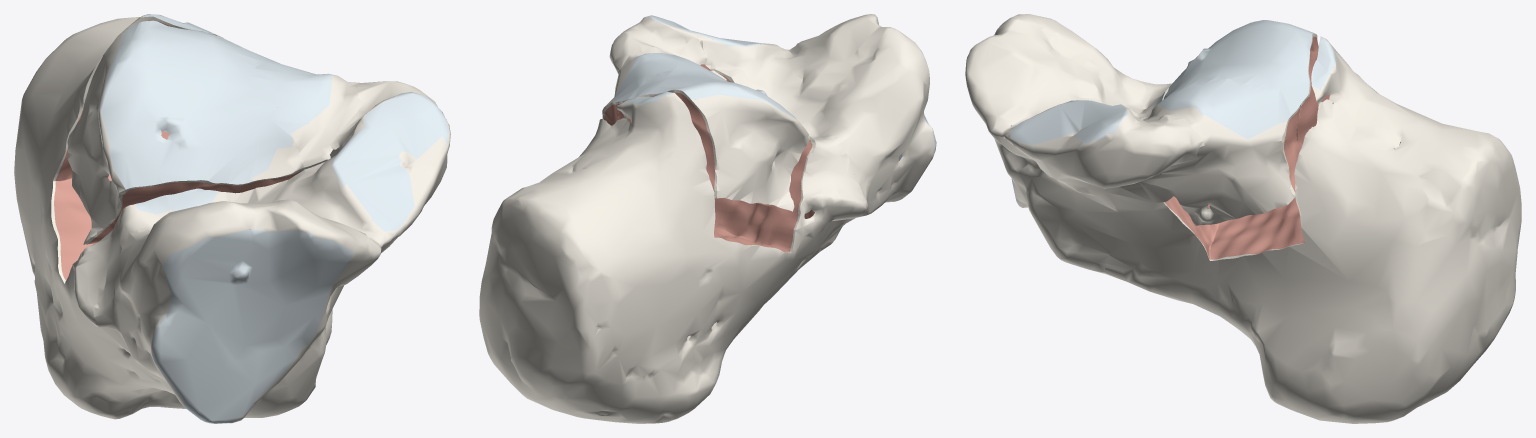
The model's file is S-IIIBC_elderly.glb.
3 renders of one model, left to right at view 1: azimuth 30°, elevation 25°; view 2: azimuth 150°, elevation 25°; view 3: azimuth 270°, elevation 25°, orthographic. The views are drawn at different scales.
Visible parts, largest first — view 1: calcaneus: sustentacular fragment, calcaneus: lateral joint fragment, calcaneus: tuberosity, calcaneus: central joint fragment (depressed); view 2: calcaneus: tuberosity, calcaneus: sustentacular fragment, calcaneus: lateral joint fragment, calcaneus: central joint fragment (depressed); view 3: calcaneus: tuberosity, calcaneus: sustentacular fragment, calcaneus: central joint fragment (depressed), calcaneus: lateral joint fragment.
Boxes of the visible parts, x1,y1,x2,y2 form: calcaneus: sustentacular fragment: (94,81,450,423); calcaneus: lateral joint fragment: (67,20,304,244); calcaneus: tuberosity: (14,14,332,419); calcaneus: central joint fragment (depressed): (239,46,362,169); calcaneus: tuberosity: (479,92,867,423); calcaneus: sustentacular fragment: (609,14,936,255); calcaneus: lateral joint fragment: (618,65,809,211); calcaneus: central joint fragment (depressed): (602,34,725,125); calcaneus: tuberosity: (1103,36,1521,423); calcaneus: sustentacular fragment: (965,14,1203,273); calcaneus: central joint fragment (depressed): (1145,79,1301,225); calcaneus: lateral joint fragment: (1143,20,1318,147).
Size of the model in its own units: 0.0475 by 0.0513 by 0.0757.
